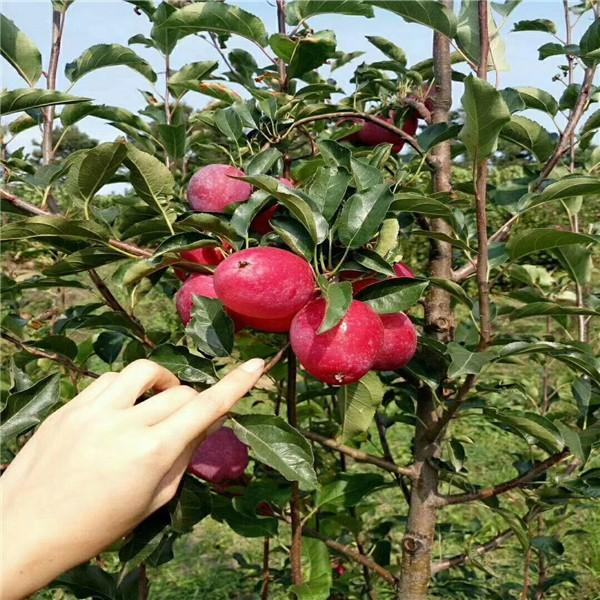apple: (215, 247, 315, 328), (289, 300, 385, 376), (188, 162, 258, 217), (190, 429, 246, 482), (374, 308, 415, 370), (173, 275, 220, 324)
